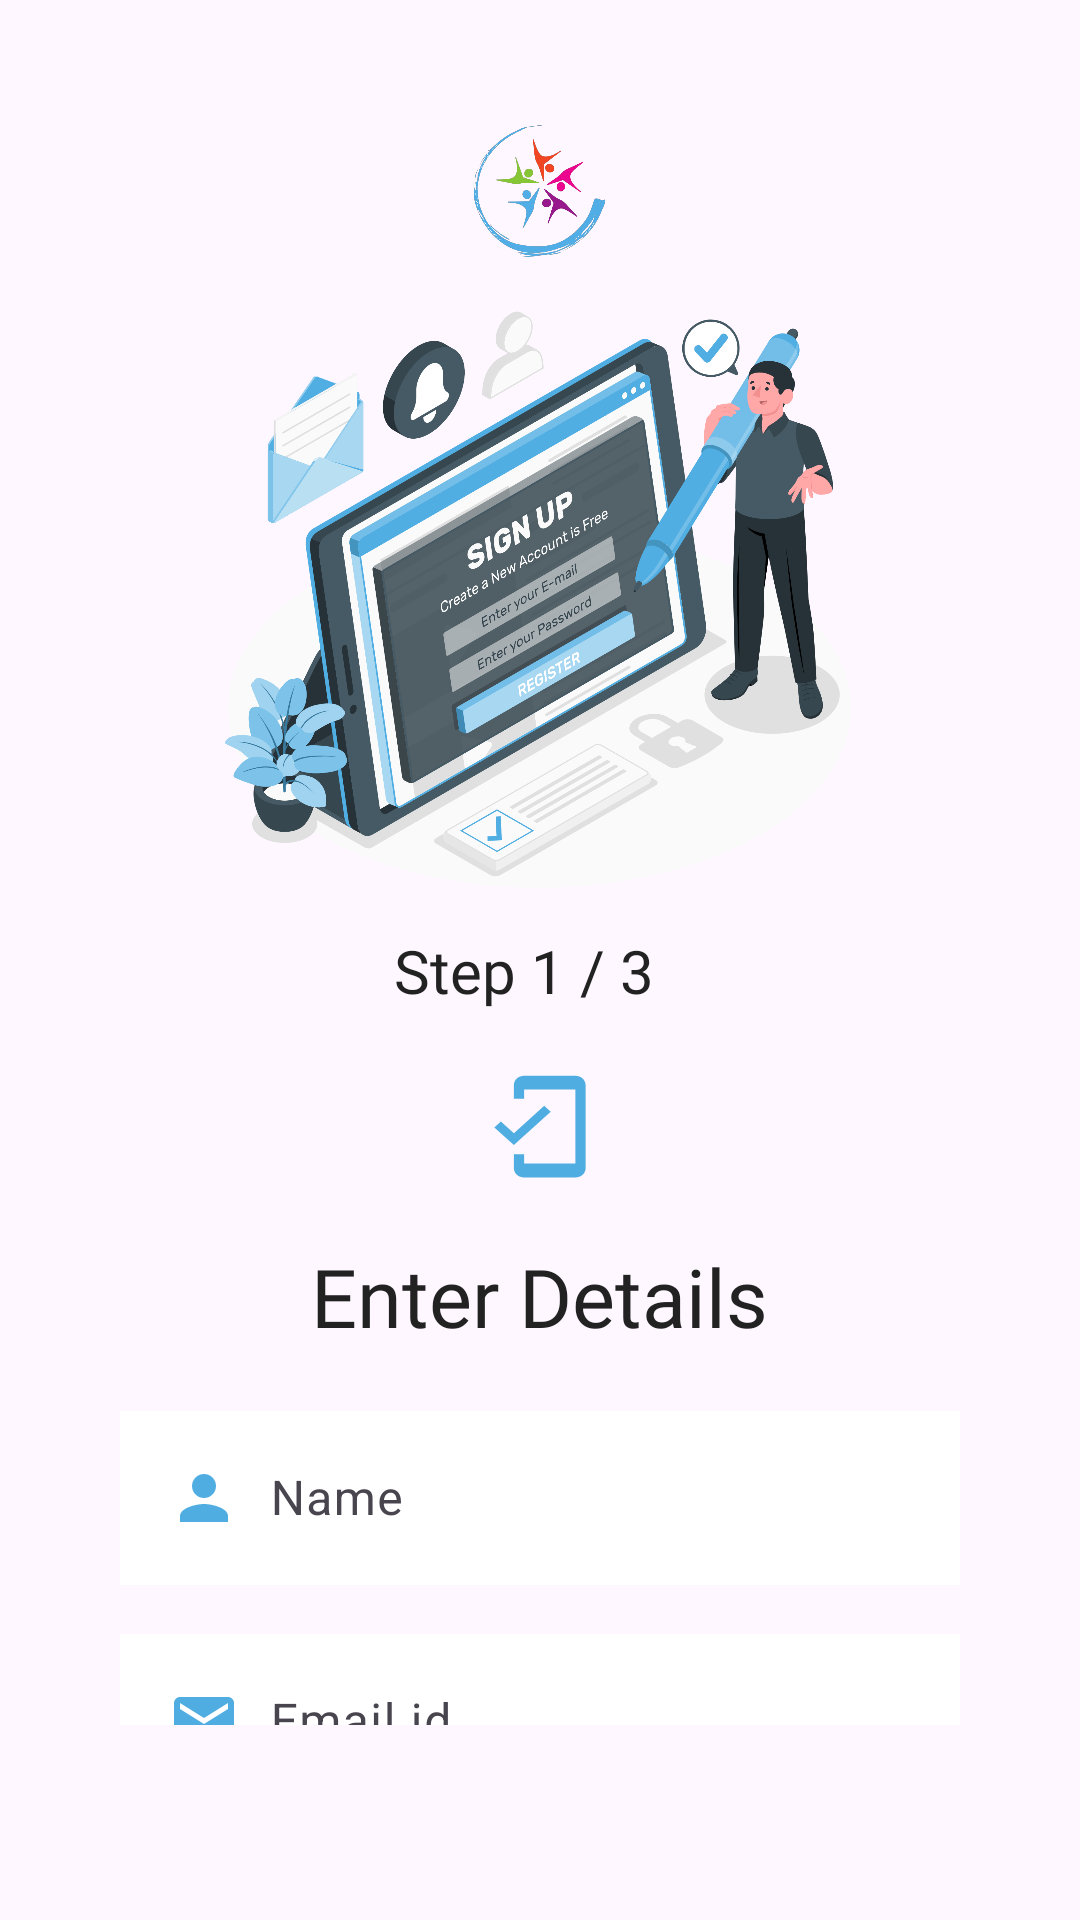

Icons on this 1080x1920 Android screen, each with the point to tap as point (x, y):
mobilecheck: point (540, 1126)
